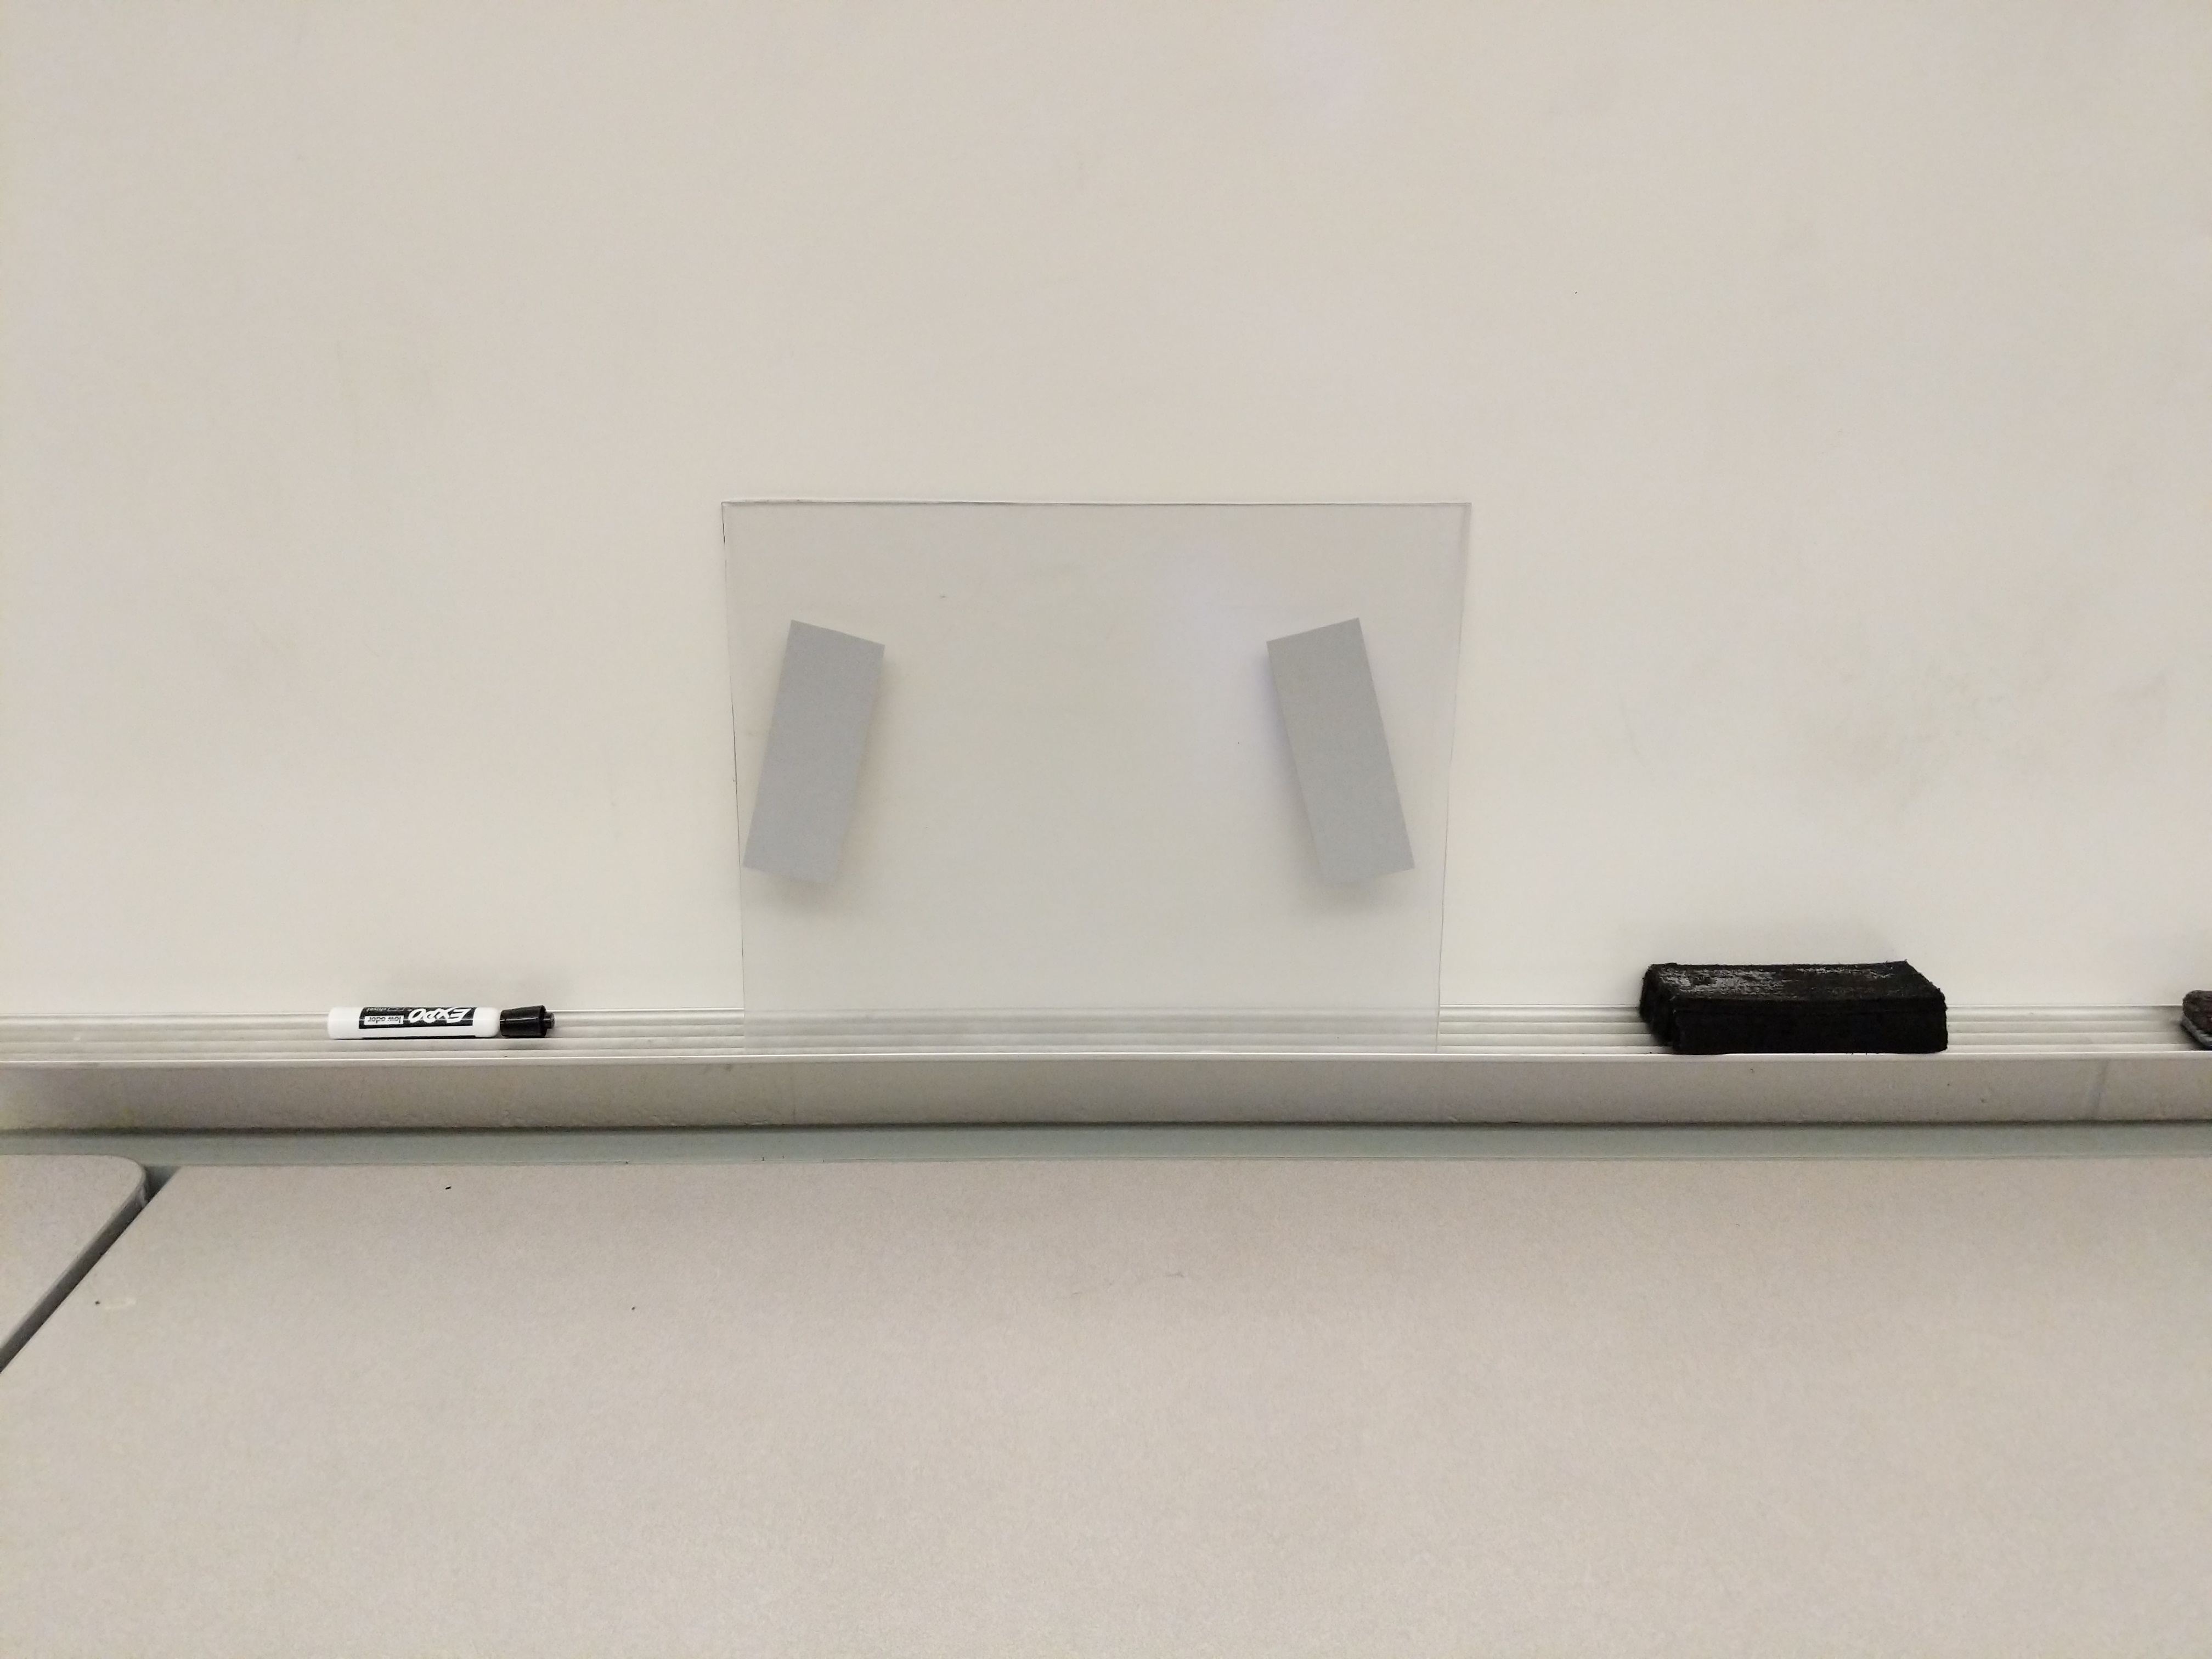vision_target: (738, 608, 1433, 917)
